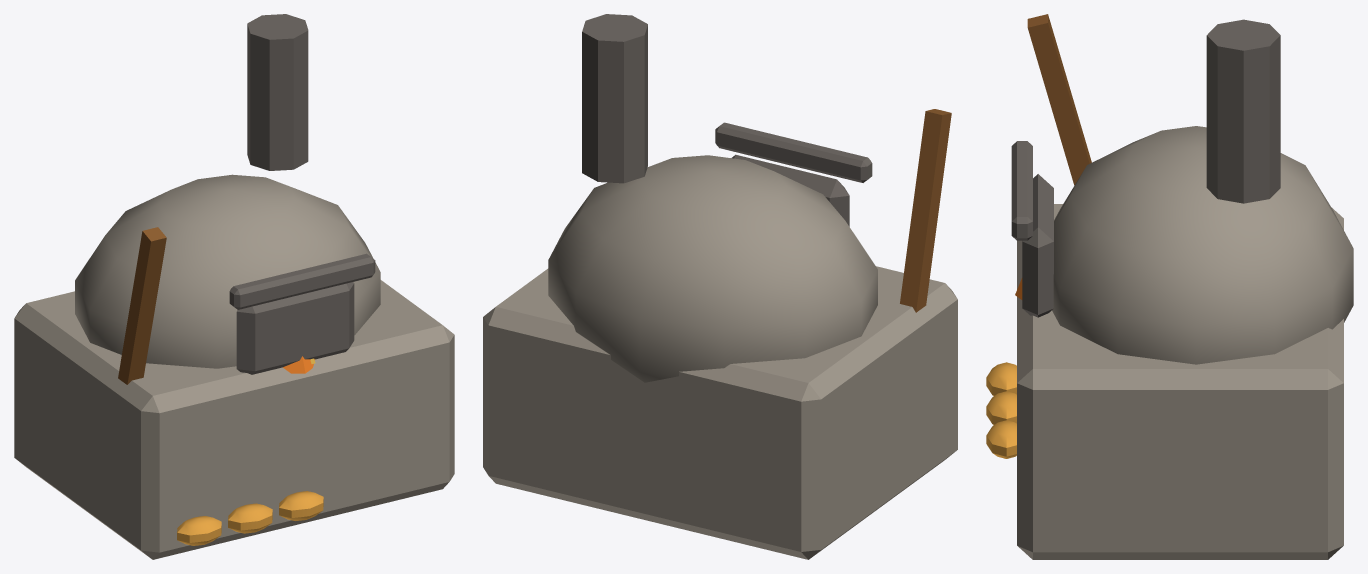
File: PR_Station_Firin_T1.fbx
3 renders of one model, left to right at view 1: azimuth 30°, elevation 25°; view 2: azimuth 150°, elevation 25°; view 3: azimuth 270°, elevation 25°, orthographic. The views are drawn at different scales.
Visible parts, largest first — view 1: PR_Station_Firin_T1; view 2: PR_Station_Firin_T1; view 3: PR_Station_Firin_T1.
Part boxes in pixels (bbox=[...]): PR_Station_Firin_T1: bbox=[14, 14, 454, 559]; PR_Station_Firin_T1: bbox=[483, 14, 957, 559]; PR_Station_Firin_T1: bbox=[986, 14, 1353, 559].
Bounding box in the file's own units: 0.8 × 1.01 × 0.6964.
Materials: 1 (1 with a texture image).
